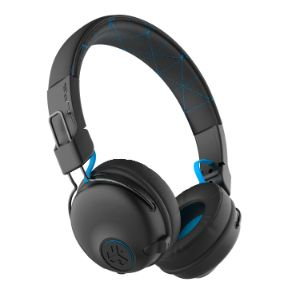headset: (43, 11, 243, 282)
